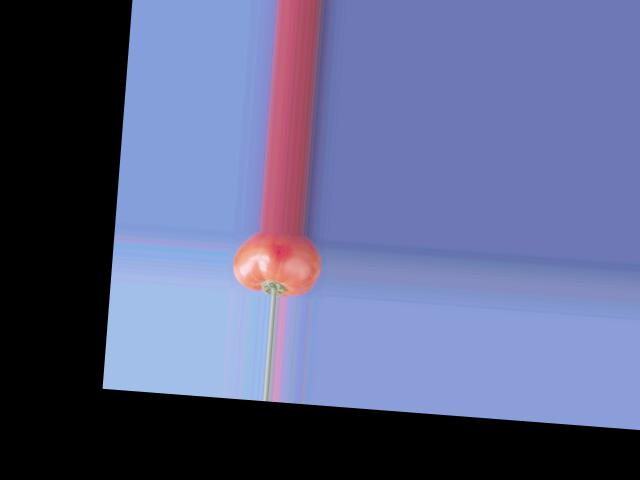tomato: (231, 228, 324, 299)
